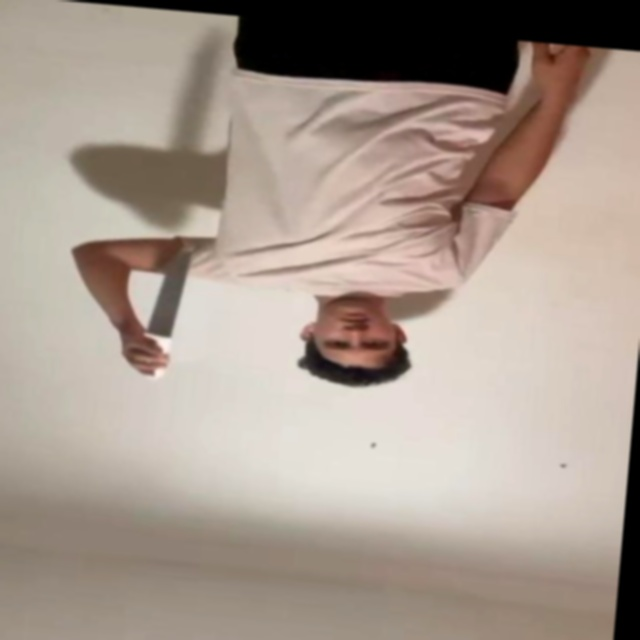Sharp-Object: (150, 251, 195, 337)
